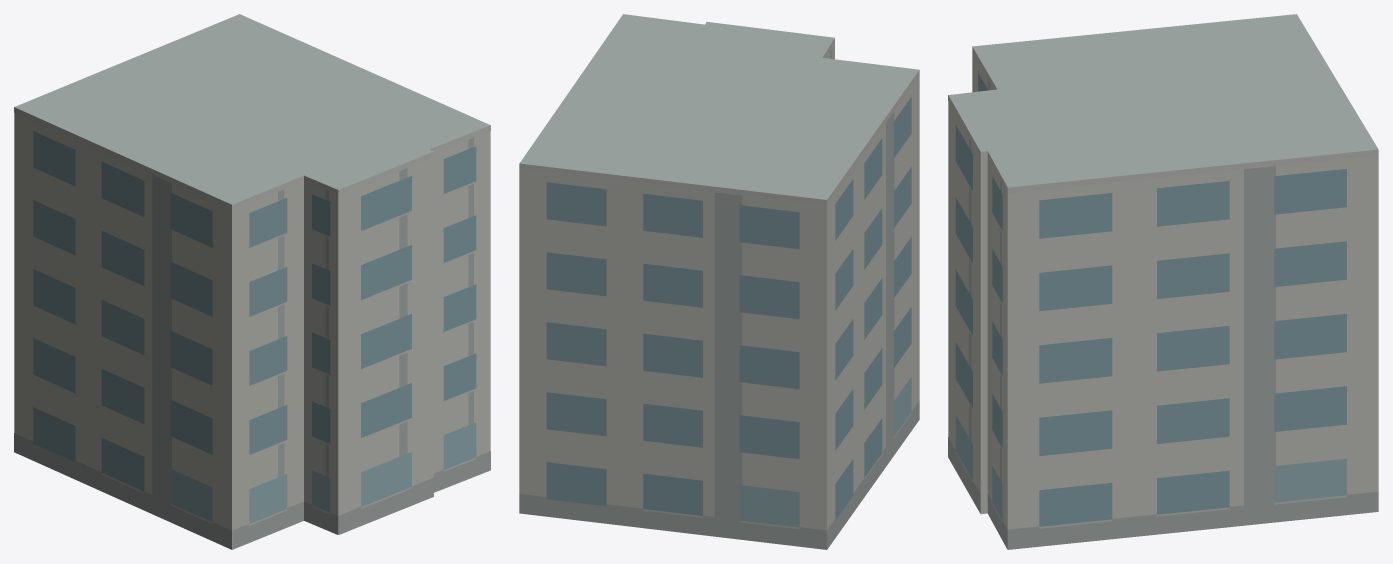
File: survey-upis-32594330.glb
The picture shows the model from 3 angles, left to right: view 1: azimuth 30°, elevation 25°; view 2: azimuth 150°, elevation 25°; view 3: azimuth 270°, elevation 25°; orthographic projection. The views are drawn at different scales.
Parts seen in each view (by area): view 1: survey-upis-32594330.tmp; view 2: survey-upis-32594330.tmp; view 3: survey-upis-32594330.tmp.
Boxes of the visible parts, box(x1,y1,x2,y2) form: survey-upis-32594330.tmp: box(14, 14, 490, 549); survey-upis-32594330.tmp: box(519, 14, 919, 549); survey-upis-32594330.tmp: box(948, 14, 1378, 549).
Bounding box in the file's own units: 15.01 × 14.6 × 15.73.
